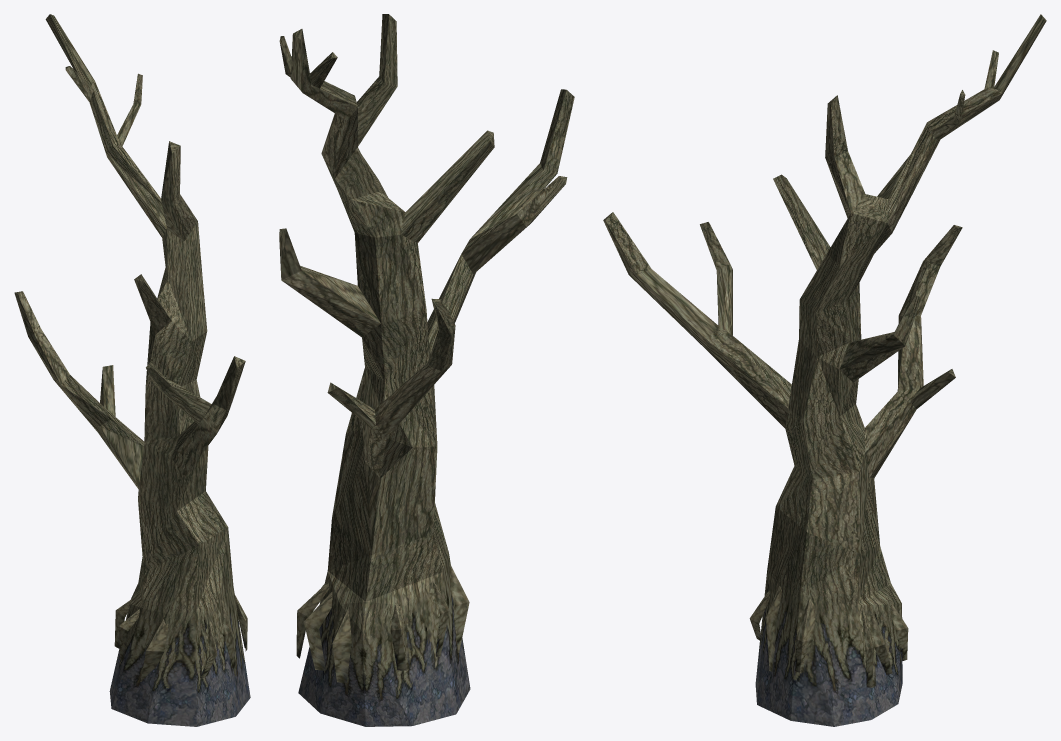
File: C4SNDEADTREEB.obj
3 views of the same model, side by side, from view 1: azimuth 30°, elevation 25°; view 2: azimuth 150°, elevation 25°; view 3: azimuth 270°, elevation 25° (orthographic). The views are drawn at different scales.
Visible parts, largest first — view 1: Node 0; view 2: Node 0; view 3: Node 0.
Boxes of the visible parts, bbox=[...] form: Node 0: bbox=[14, 14, 250, 726]; Node 0: bbox=[279, 14, 574, 726]; Node 0: bbox=[603, 14, 1046, 726].
Size of the model in its own units: 7.34 by 25.77 by 15.63.
1 material, 1 textured.
